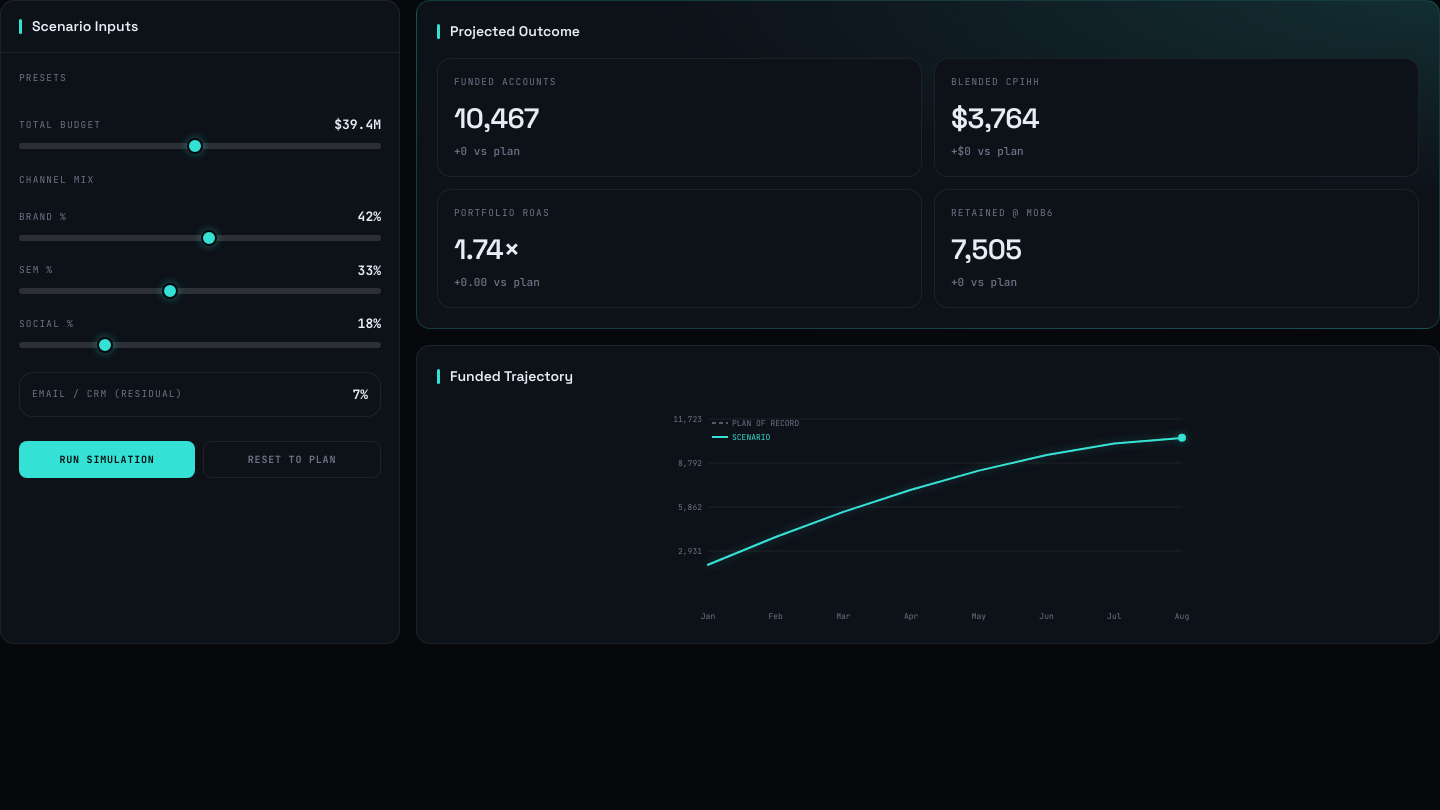
Simulator interactions › RESET TO PLAN restores default slider values
Expected: the button "RUN SIMULATION" is shown, 19,441 -> 195,478
Change budget
Set the slider below "$39.4M" to "50" at x=286, y=146, box 19,143 -> 381,149
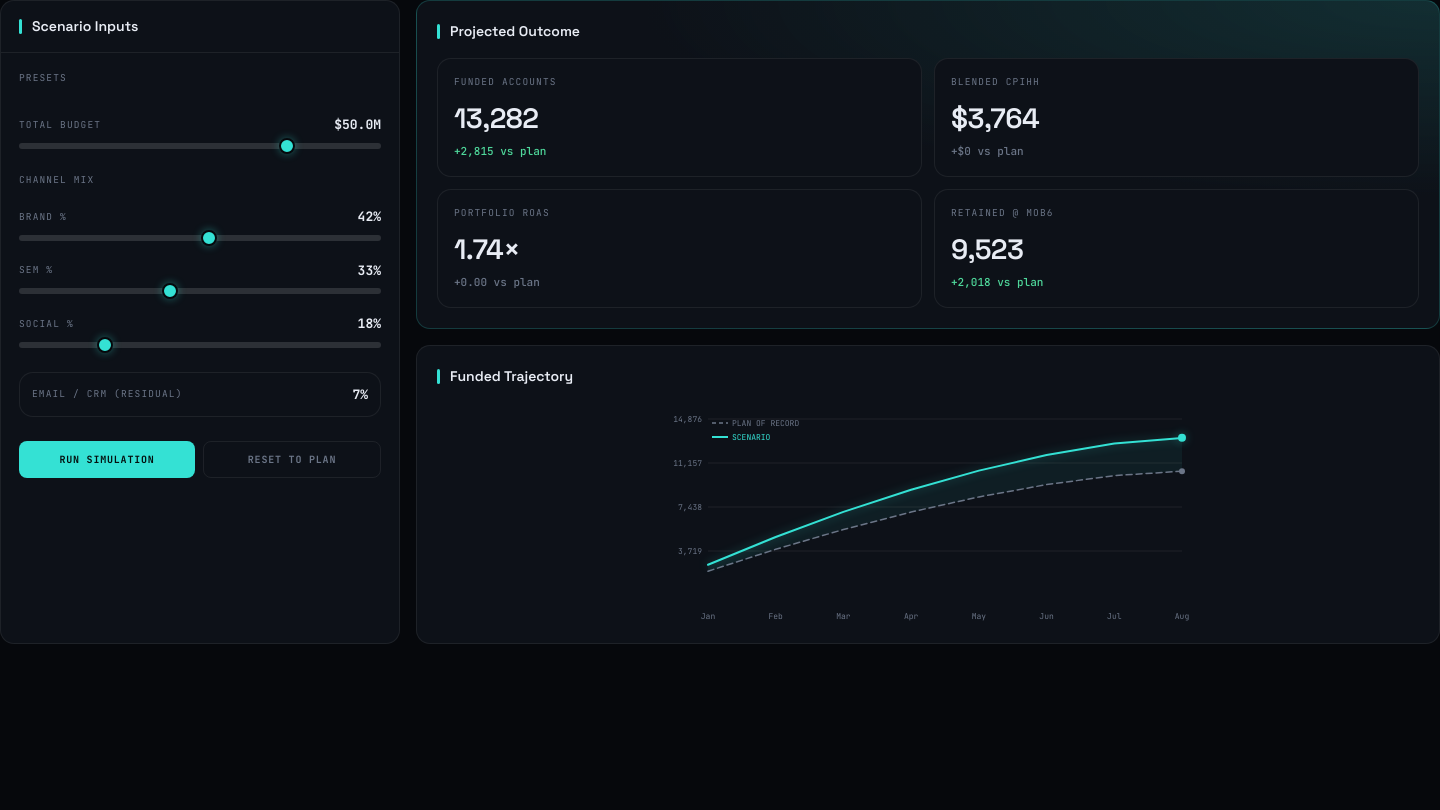
Click the button "RESET TO PLAN".
click(292, 460)  # box 203,441 -> 381,478
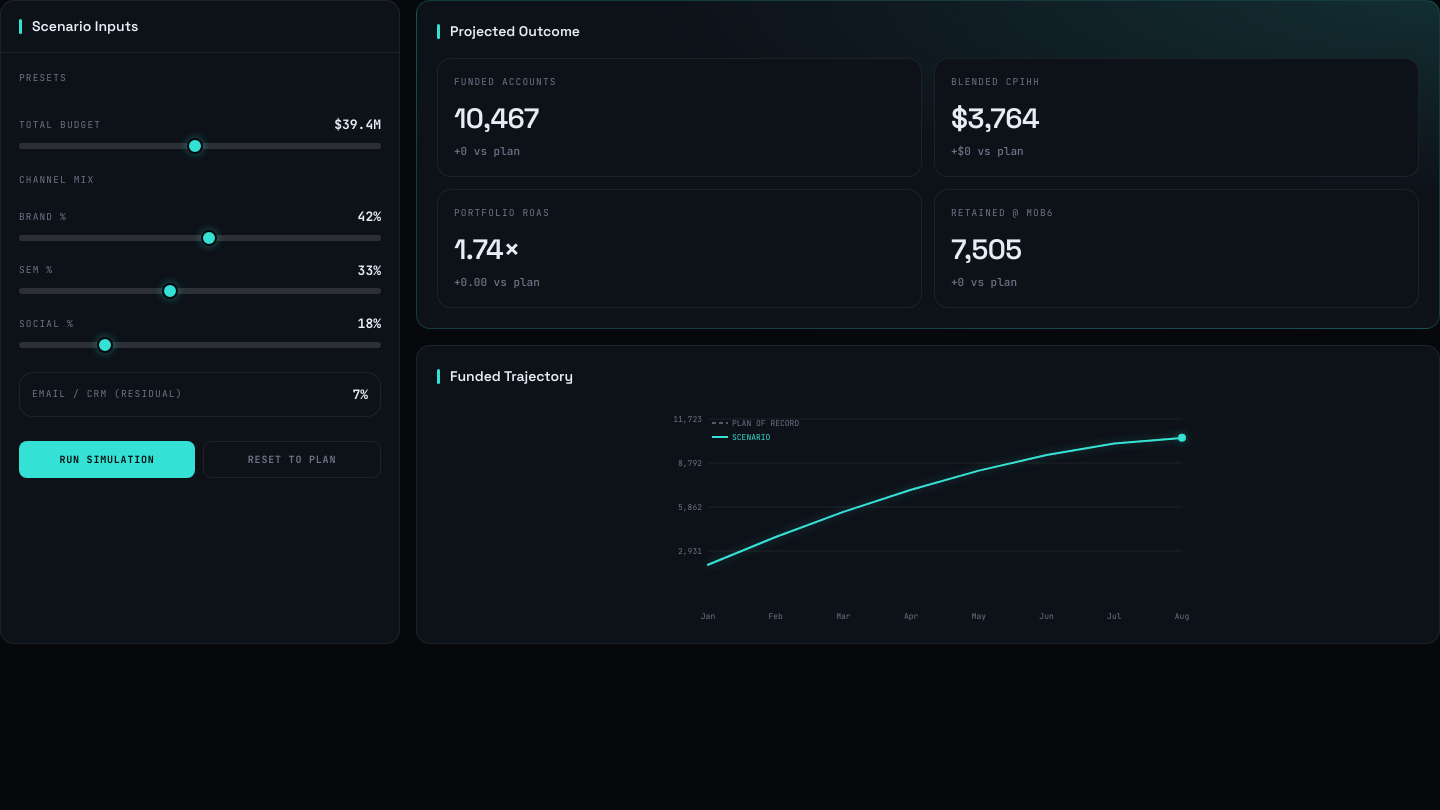
Expected: the slider below "$39.4M" holds "39.4", 19,143 -> 381,149
